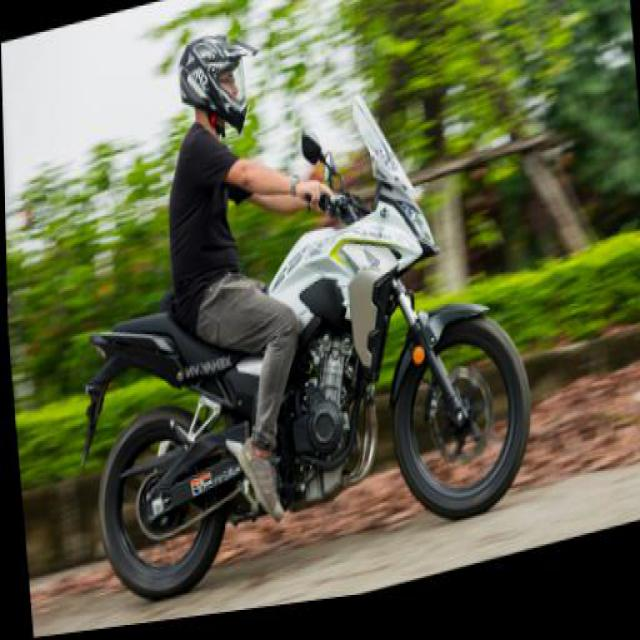CB500X: (67, 67, 538, 622)
